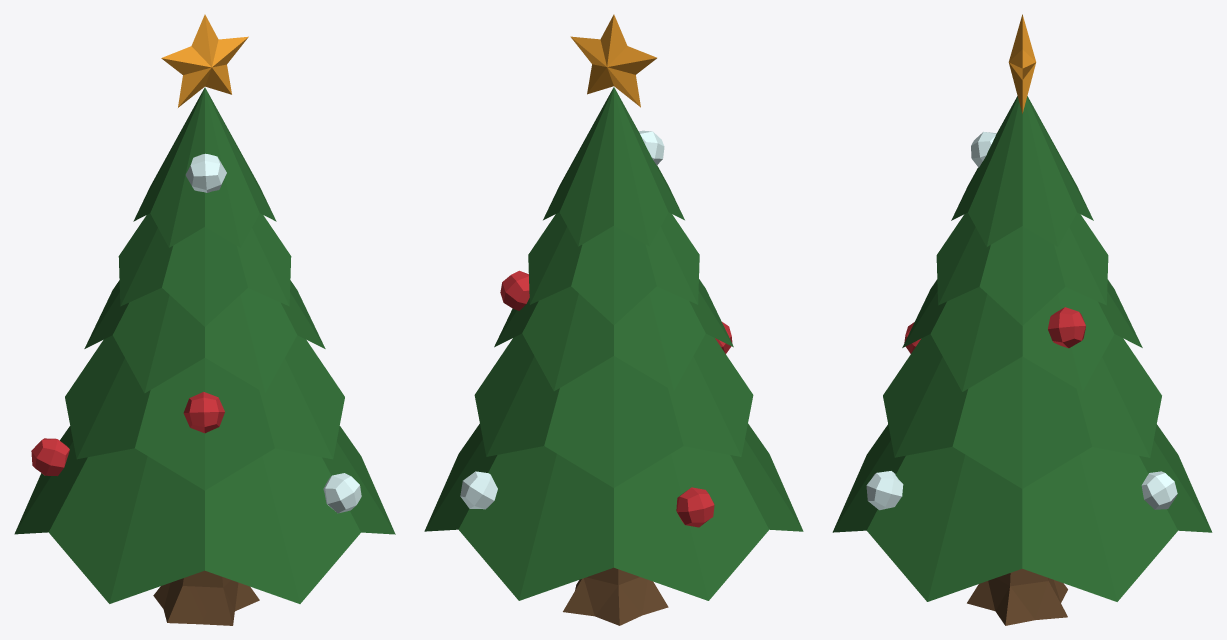
Rendered from nature_tree-christmas.fbx.
3 views of the same model, side by side, from view 1: azimuth 30°, elevation 25°; view 2: azimuth 150°, elevation 25°; view 3: azimuth 270°, elevation 25° (orthographic).
Visible parts, largest first — view 1: nature_tree_christmas; view 2: nature_tree_christmas; view 3: nature_tree_christmas.
Boxes of the visible parts, box(x1,y1,x2,y2) form: nature_tree_christmas: box(14, 14, 395, 625); nature_tree_christmas: box(424, 14, 803, 625); nature_tree_christmas: box(832, 14, 1212, 625).
Size of the model in its own units: 111 by 200 by 117.
